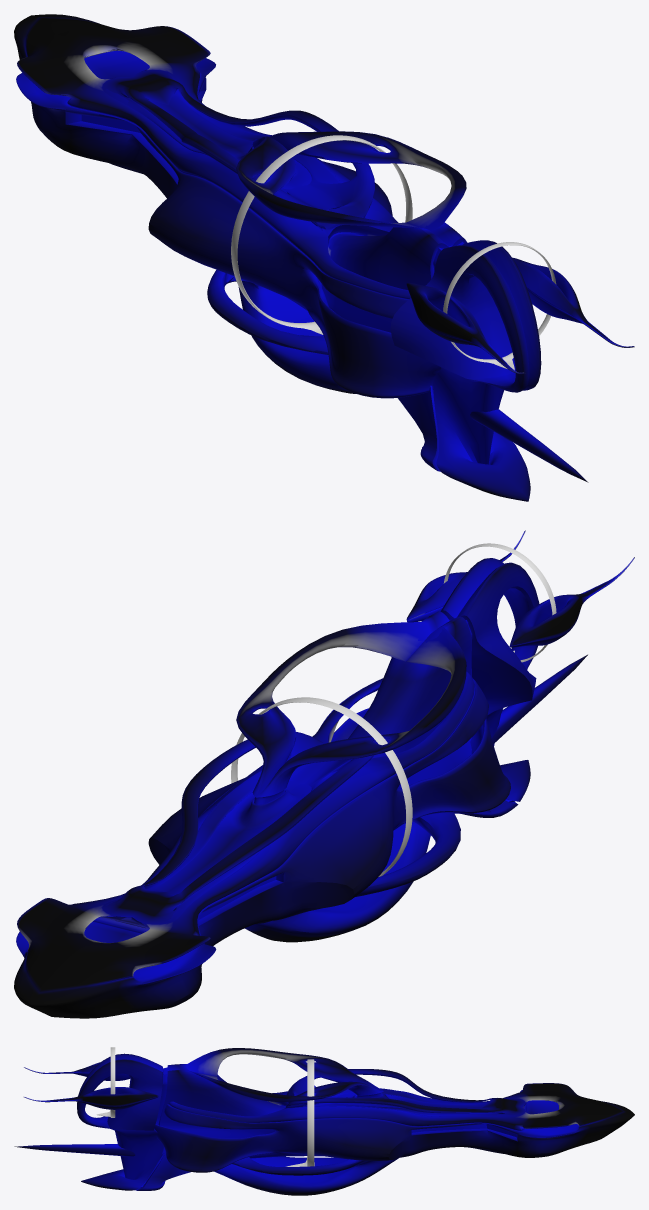
The model's file is ff_cruiser_04.fbx.
The picture shows the model from 3 angles, top to bottom: view 1: azimuth 30°, elevation 25°; view 2: azimuth 150°, elevation 25°; view 3: azimuth 270°, elevation 25°; orthographic projection. The views are drawn at different scales.
Visible parts, largest first — view 1: ff_cruiser_04, ff_cruiser04_ring_01, ff_cruiser04_ring_02; view 2: ff_cruiser_04, ff_cruiser04_ring_01, ff_cruiser04_ring_02; view 3: ff_cruiser_04, ff_cruiser04_ring_01, ff_cruiser04_ring_02.
Part boxes in pixels (x1,y1,x2,y2): ff_cruiser_04: (14,14,634,501); ff_cruiser04_ring_01: (231,135,412,334); ff_cruiser04_ring_02: (443,242,556,370); ff_cruiser_04: (14,530,634,1018); ff_cruiser04_ring_01: (231,697,412,876); ff_cruiser04_ring_02: (443,543,556,662); ff_cruiser_04: (14,1048,634,1195); ff_cruiser04_ring_01: (286,1059,314,1166); ff_cruiser04_ring_02: (96,1047,115,1117).
Size of the model in its own units: 1427 by 1615 by 6394.
